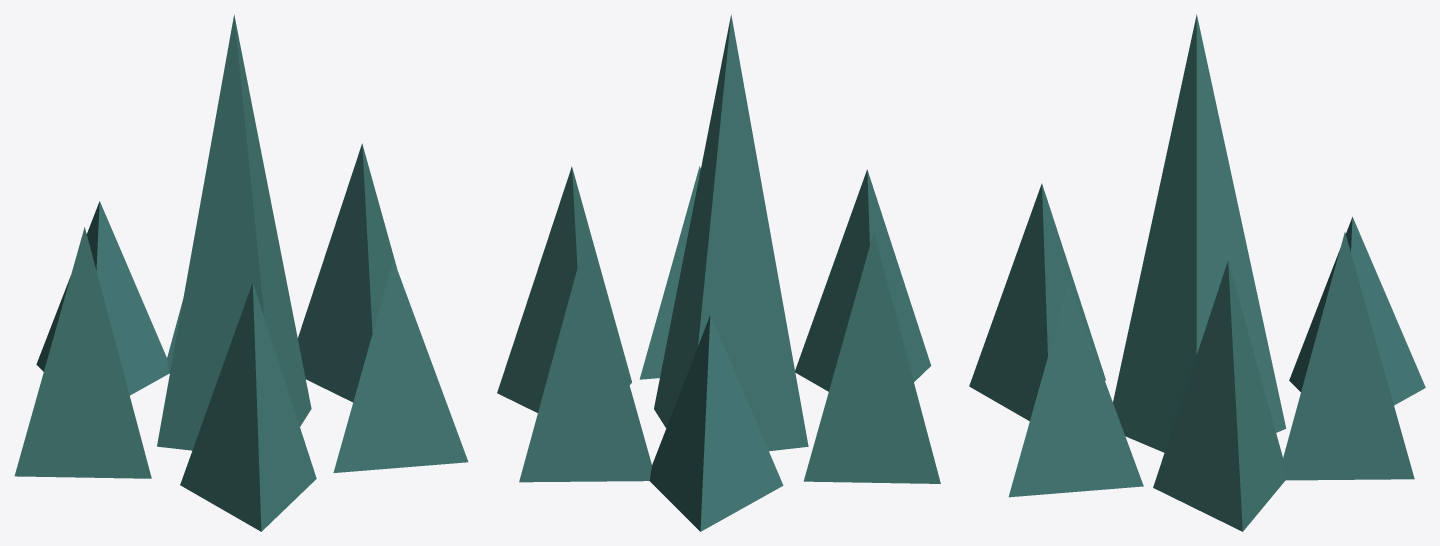
File: agave_2.obj
3 views of the same model, side by side, from view 1: azimuth 30°, elevation 25°; view 2: azimuth 150°, elevation 25°; view 3: azimuth 270°, elevation 25° (orthographic).
Visible parts, largest first — view 1: agave_2; view 2: agave_2; view 3: agave_2.
Part boxes in pixels (left/top/right/bottom): agave_2: left=14, top=14, right=468, bottom=531; agave_2: left=497, top=14, right=940, bottom=531; agave_2: left=969, top=14, right=1425, bottom=531.
Bounding box in the file's own units: 0.4955 × 0.46 × 0.4592.
